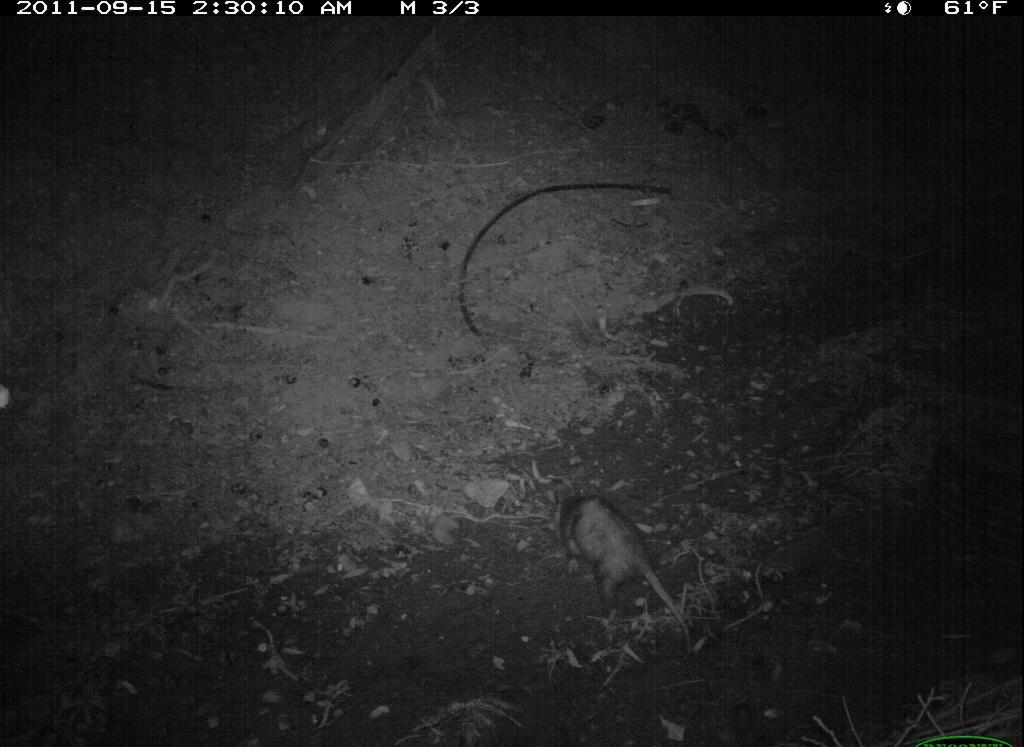opossum: (553, 481, 698, 651)
